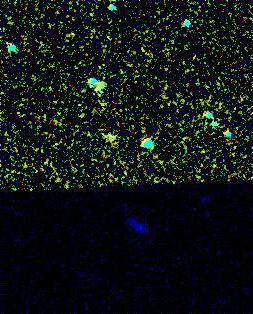star: (72, 1, 102, 31)
